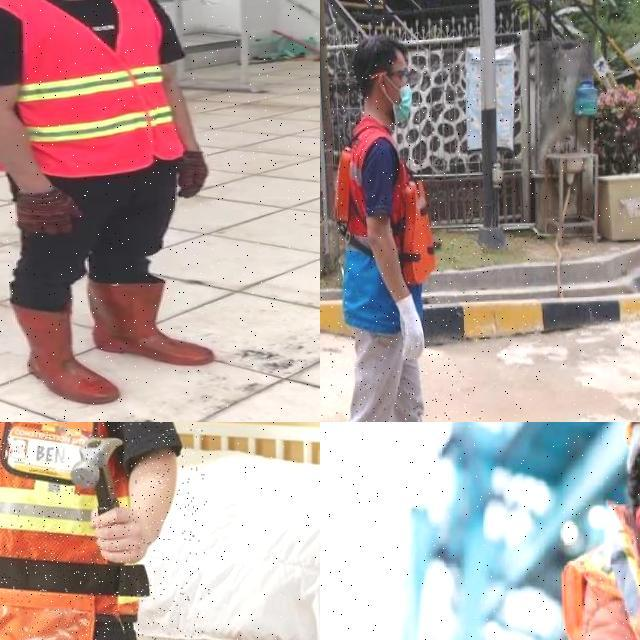boots: (12, 300, 124, 408), (84, 276, 214, 366)
vest: (0, 0, 181, 179), (0, 422, 142, 640), (332, 113, 442, 335)
